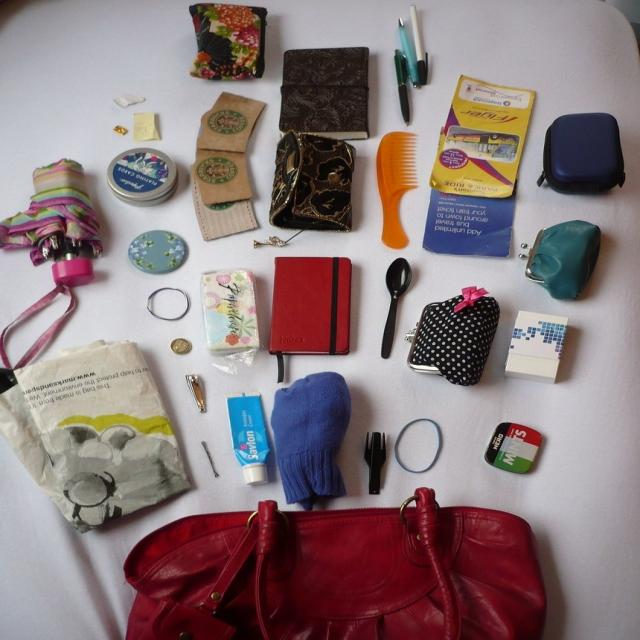Plastics: (377, 128, 415, 361), (39, 262, 102, 298)
